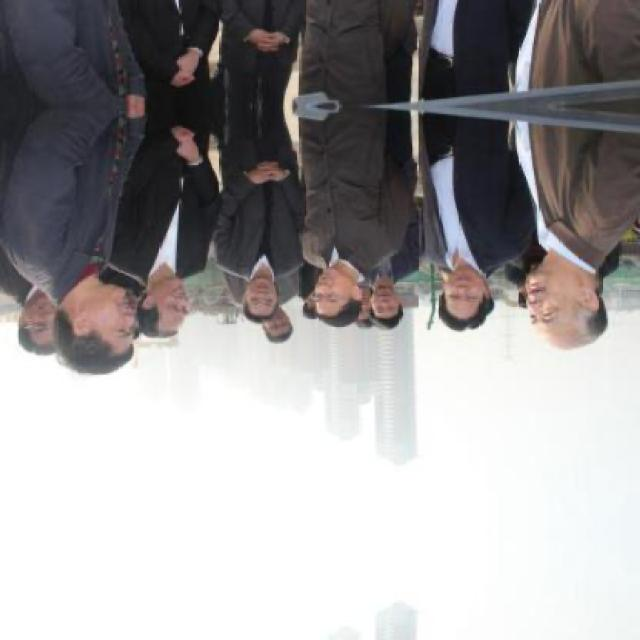sin casco: (493, 242, 637, 364), (122, 249, 205, 344), (312, 260, 391, 340), (444, 244, 488, 340)
